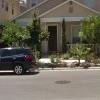Tree: (71, 12, 100, 67)
